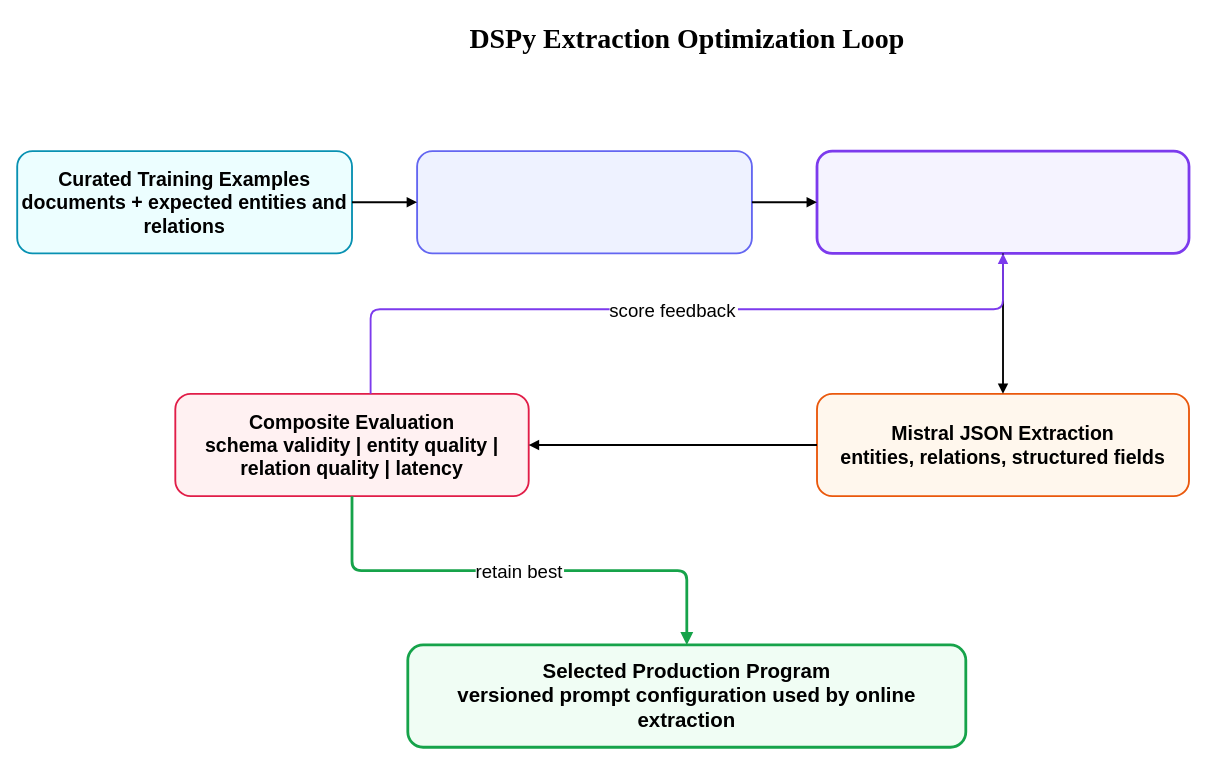
The diagram is 1206 pixels wide and 764 high, and some of its shapes have lost their labels. Here are the shapes that lost their labels. From the top down, the box of each, then its label:
(416, 150, 752, 254): DSPy Extraction Module signature, instructions, demonstrations
(815, 149, 1190, 254): MIPROv2 Optimizer proposes prompts and few-shot examples
